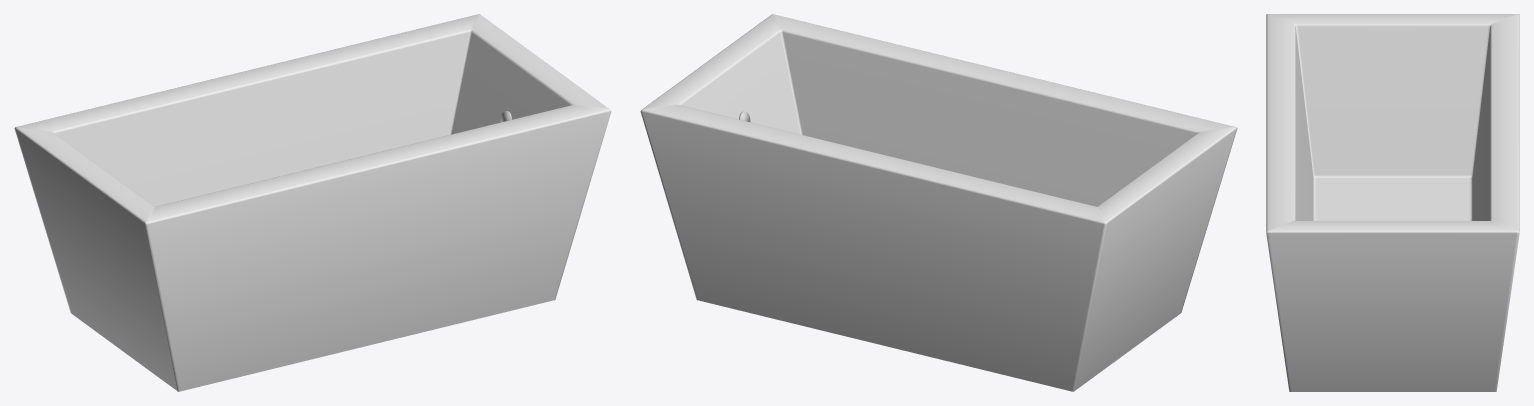
The model's file is BathTub05.glb.
3 renders of one model, left to right at view 1: azimuth 30°, elevation 25°; view 2: azimuth 150°, elevation 25°; view 3: azimuth 270°, elevation 25°, orthographic. The views are drawn at different scales.
Parts seen in each view (by area): view 1: BathTub05_model; view 2: BathTub05_model; view 3: BathTub05_model.
Boxes of the visible parts, bbox=[...] form: BathTub05_model: bbox=[14, 14, 611, 391]; BathTub05_model: bbox=[640, 14, 1237, 391]; BathTub05_model: bbox=[1266, 14, 1519, 391].
Bounding box in the file's own units: 2.93 × 1.14 × 1.44.
Materials: 1 (1 with a texture image).
